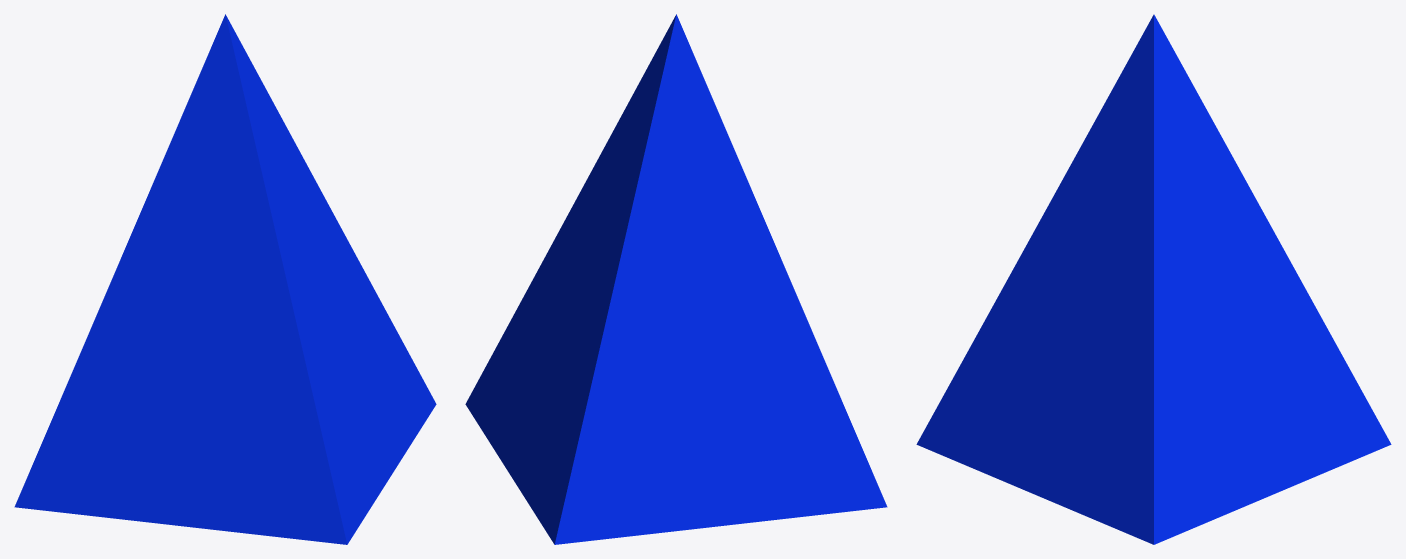
The model's file is Pyramid_Tall_Blue_v1.glb.
The picture shows the model from 3 angles, left to right: view 1: azimuth 30°, elevation 25°; view 2: azimuth 150°, elevation 25°; view 3: azimuth 270°, elevation 25°; orthographic projection. The views are drawn at different scales.
Parts seen in each view (by area): view 1: Cone_Tall; view 2: Cone_Tall; view 3: Cone_Tall.
Boxes of the visible parts, x1,y1,x2,y2 form: Cone_Tall: (14,14,436,544); Cone_Tall: (465,14,887,544); Cone_Tall: (916,14,1391,544).
Bounding box in the file's own units: 2 × 2 × 2.
